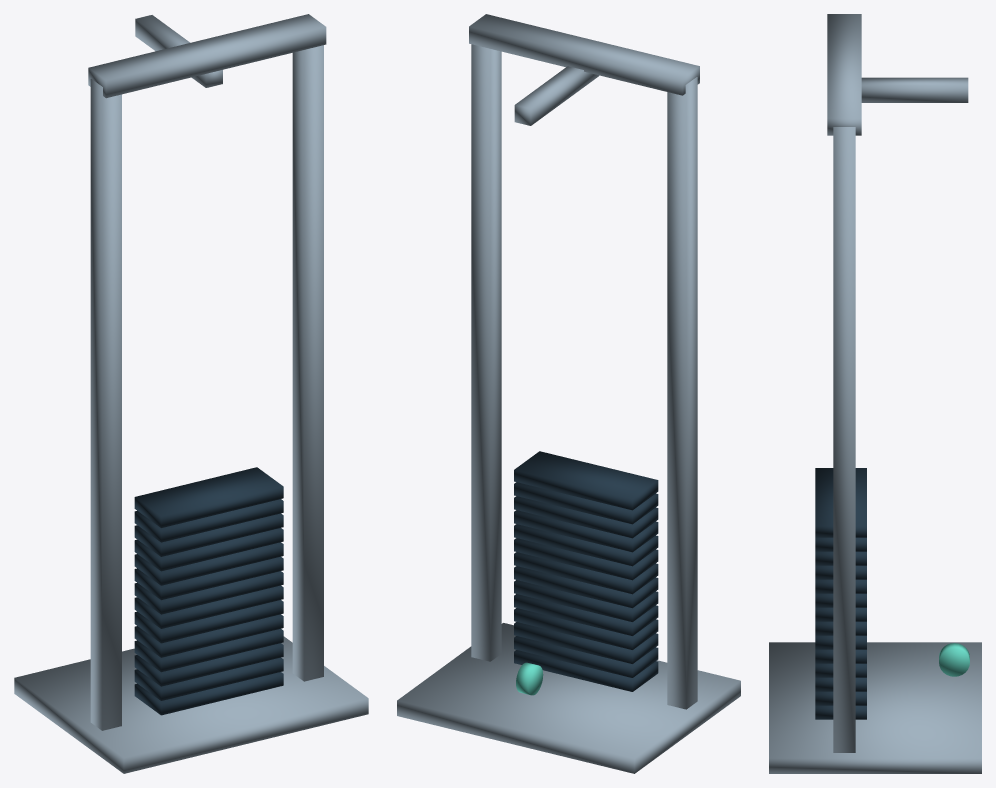
File: cable_station_low_a.glb
The picture shows the model from 3 angles, left to right: view 1: azimuth 30°, elevation 25°; view 2: azimuth 150°, elevation 25°; view 3: azimuth 270°, elevation 25°; orthographic projection. The views are drawn at different scales.
Visible parts, largest first — view 1: frame, weight_stack; view 2: frame, weight_stack, high_wheel; view 3: frame, weight_stack, high_wheel.
Boxes of the visible parts, bbox=[...] form: frame: bbox=[14, 14, 368, 773]; weight_stack: bbox=[134, 467, 283, 715]; frame: bbox=[397, 14, 740, 773]; weight_stack: bbox=[514, 451, 658, 691]; high_wheel: bbox=[516, 662, 543, 695]; frame: bbox=[769, 14, 981, 773]; weight_stack: bbox=[815, 468, 866, 719]; high_wheel: bbox=[939, 643, 969, 676].
Bounding box in the file's own units: 0.8 × 2.09 × 0.62.
